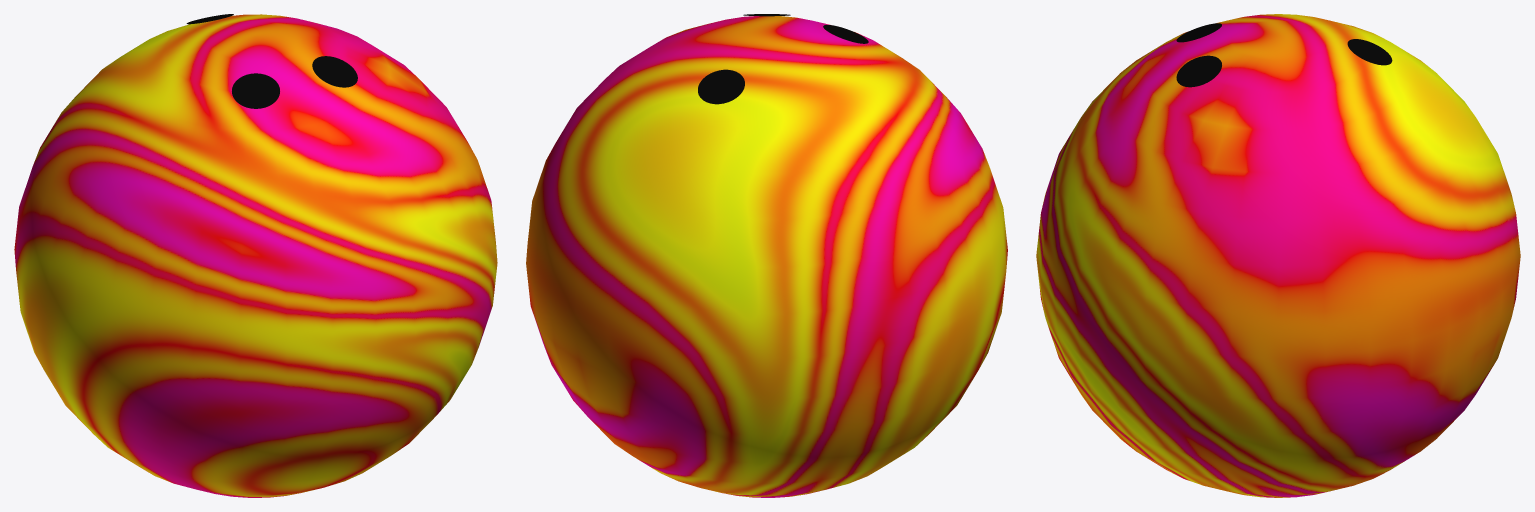
Rendered from ball_redWave.gltf.
The picture shows the model from 3 angles, left to right: view 1: azimuth 30°, elevation 25°; view 2: azimuth 150°, elevation 25°; view 3: azimuth 270°, elevation 25°; orthographic projection.
Parts seen in each view (by area): view 1: redWave; view 2: redWave; view 3: redWave.
Boxes of the visible parts, left/top/right/bottom form: redWave: left=14, top=14, right=497, bottom=497; redWave: left=526, top=14, right=1007, bottom=497; redWave: left=1036, top=14, right=1520, bottom=497.
Size of the model in its own units: 0.25 by 0.25 by 0.25.
Materials: 2 (1 with a texture image).
